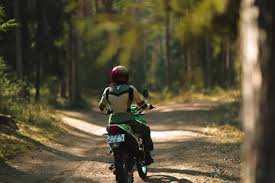motorcycle: (103, 88, 159, 183)
